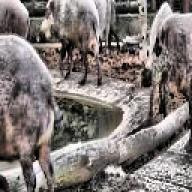boar: (0, 31, 60, 192)
